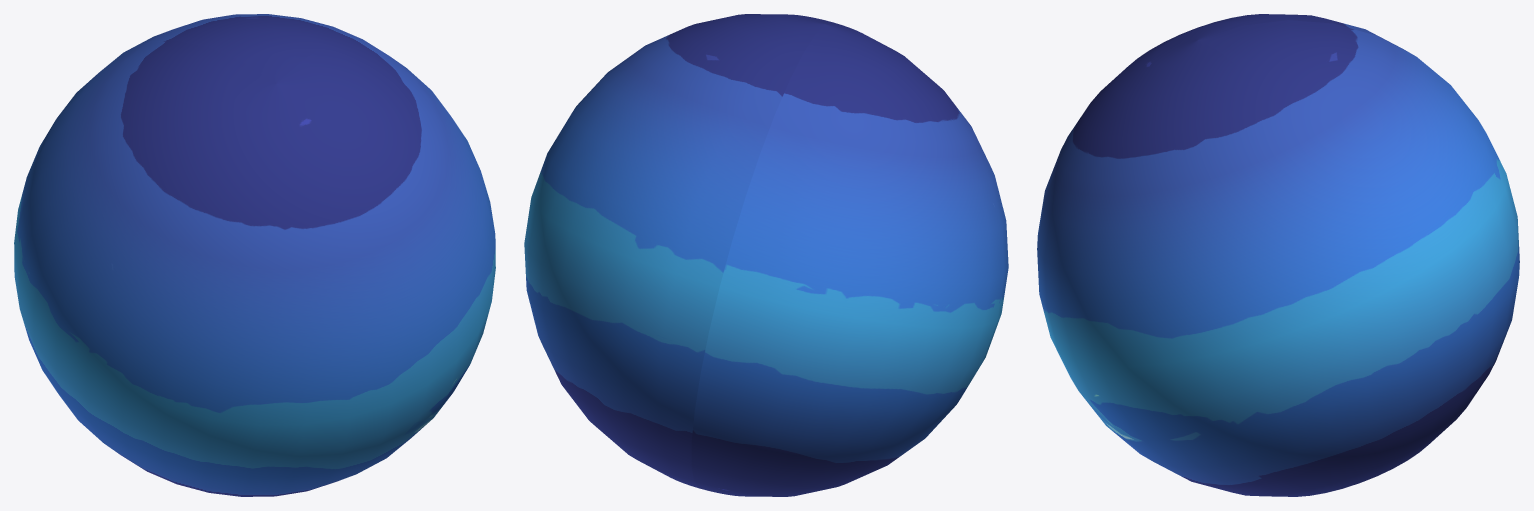
File: neptune.glb
The picture shows the model from 3 angles, left to right: view 1: azimuth 30°, elevation 25°; view 2: azimuth 150°, elevation 25°; view 3: azimuth 270°, elevation 25°; orthographic projection.
Visible parts, largest first — view 1: Neptune; view 2: Neptune; view 3: Neptune.
Part boxes in pixels (x1=…): Neptune: x1=14, y1=14, x2=495, y2=496; Neptune: x1=524, y1=14, x2=1008, y2=496; Neptune: x1=1037, y1=14, x2=1519, y2=496.
Size of the model in its own units: 1.07 by 1.08 by 1.08.
1 material, 1 textured.
